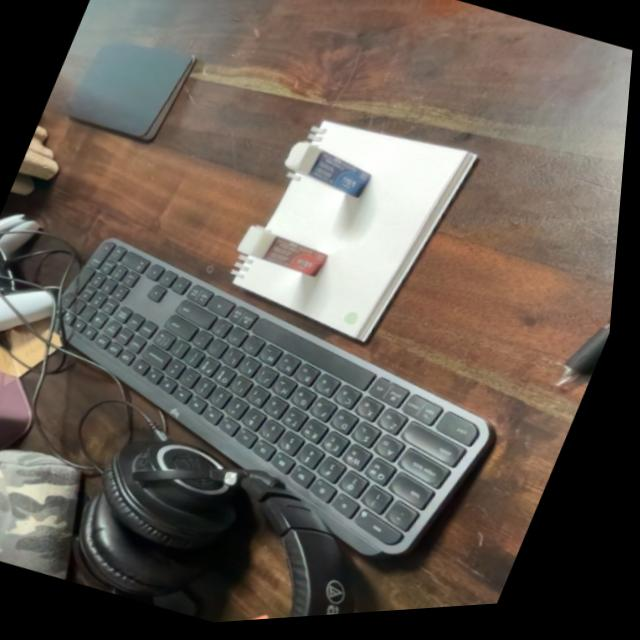blue: (277, 135, 386, 210)
red: (233, 219, 342, 289)
